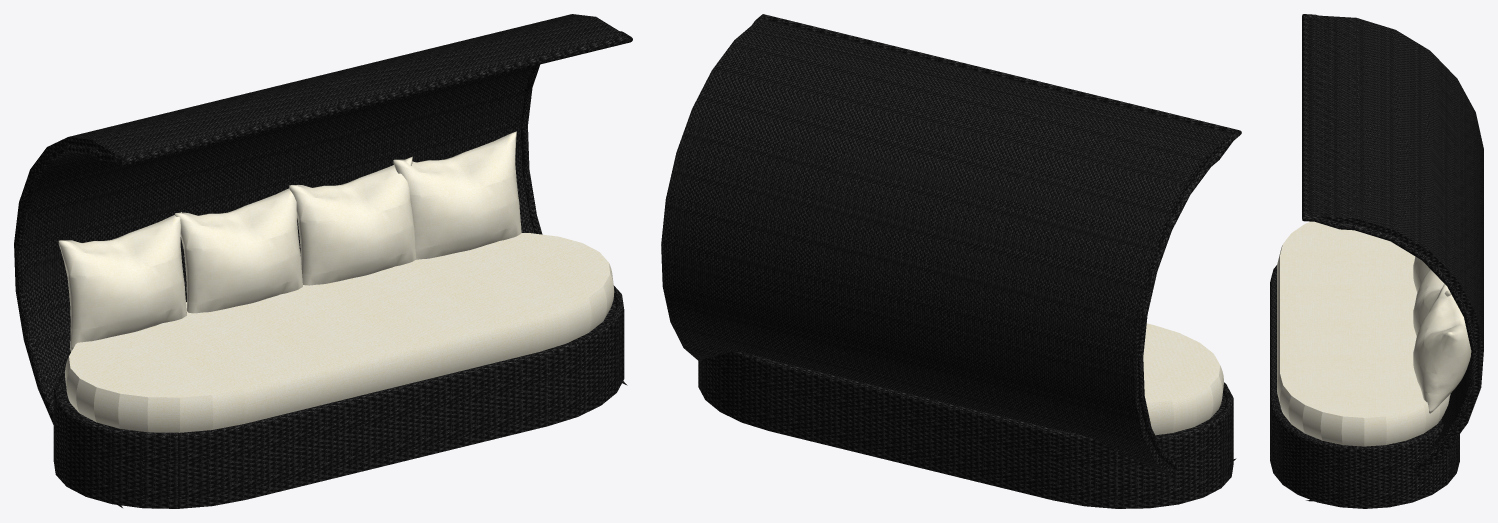
File: daybed furniture 3.dae
3 views of the same model, side by side, from view 1: azimuth 30°, elevation 25°; view 2: azimuth 150°, elevation 25°; view 3: azimuth 270°, elevation 25° (orthographic). The views are drawn at different scales.
Parts seen in each view (by area): view 1: group_1, Difference, Group_582 (×4), group_0, D_0.02_m; view 2: Difference, group_0, group_1, D_0.02_m; view 3: Difference, group_1, group_0, Group_582 (×3), D_0.02_m.
Boxes of the visible parts, x1,y1,x2,y2 form: group_1: (65,233,614,432); Difference: (14,14,627,507); Group_582 (×4): (58,131,521,351); group_0: (53,285,624,508); D_0.02_m: (16,31,632,420); Difference: (661,19,1236,477); group_0: (698,352,1233,508); group_1: (1143,323,1223,435); D_0.02_m: (752,14,1241,469); Difference: (1306,15,1483,501); group_1: (1277,221,1450,446); group_0: (1270,265,1459,508); Group_582 (×3): (1413,256,1471,413); D_0.02_m: (1302,14,1477,470).
Bounding box in the file's own units: 63.78 × 26.59 × 39.43.
Materials: 4 (4 with a texture image).
